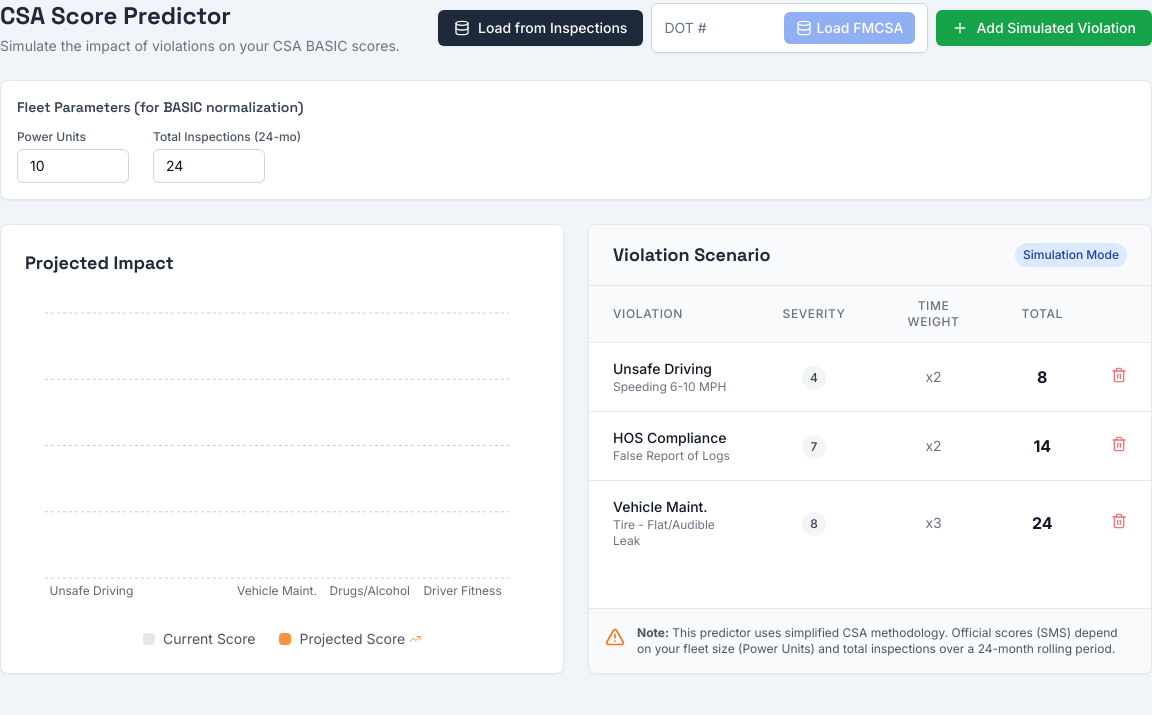
Test: CSA Predictor FMCSA seed flow › loads an FMCSA carrier snapshot into the predictor
Type "3114665" into the field with placeholder "DOT #" at x=720, y=28, box [664,18,776,38]
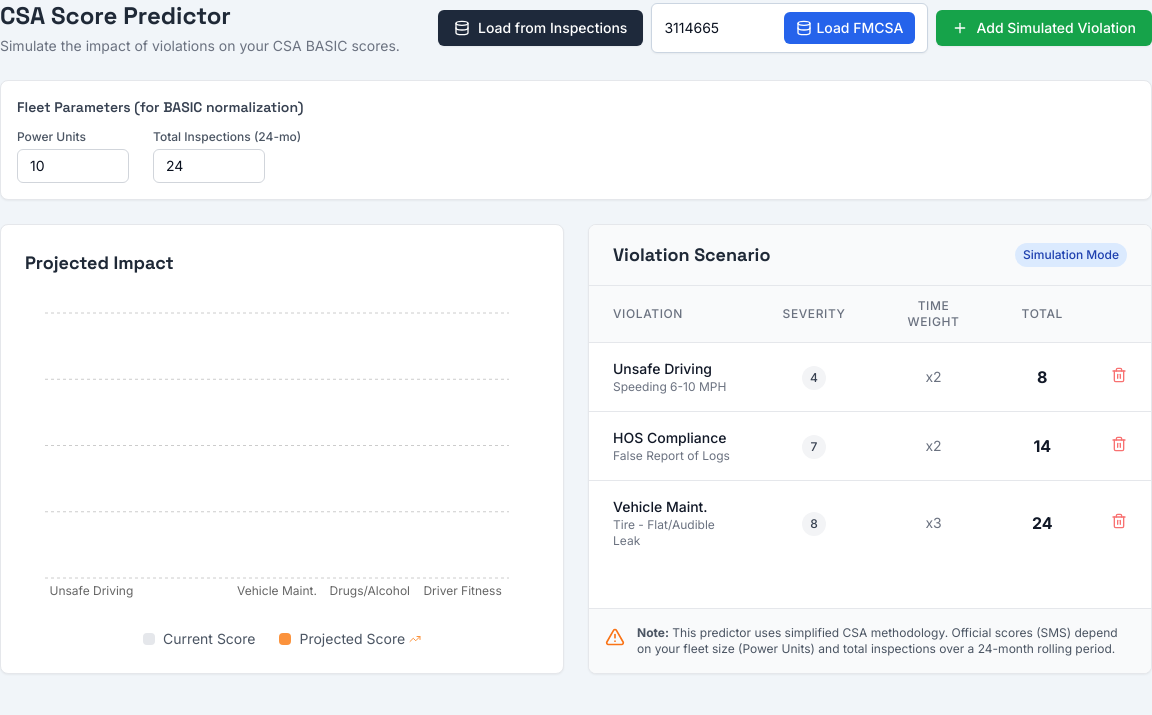
Click the button "Load FMCSA" at x=850, y=28, box [784,12,915,44]
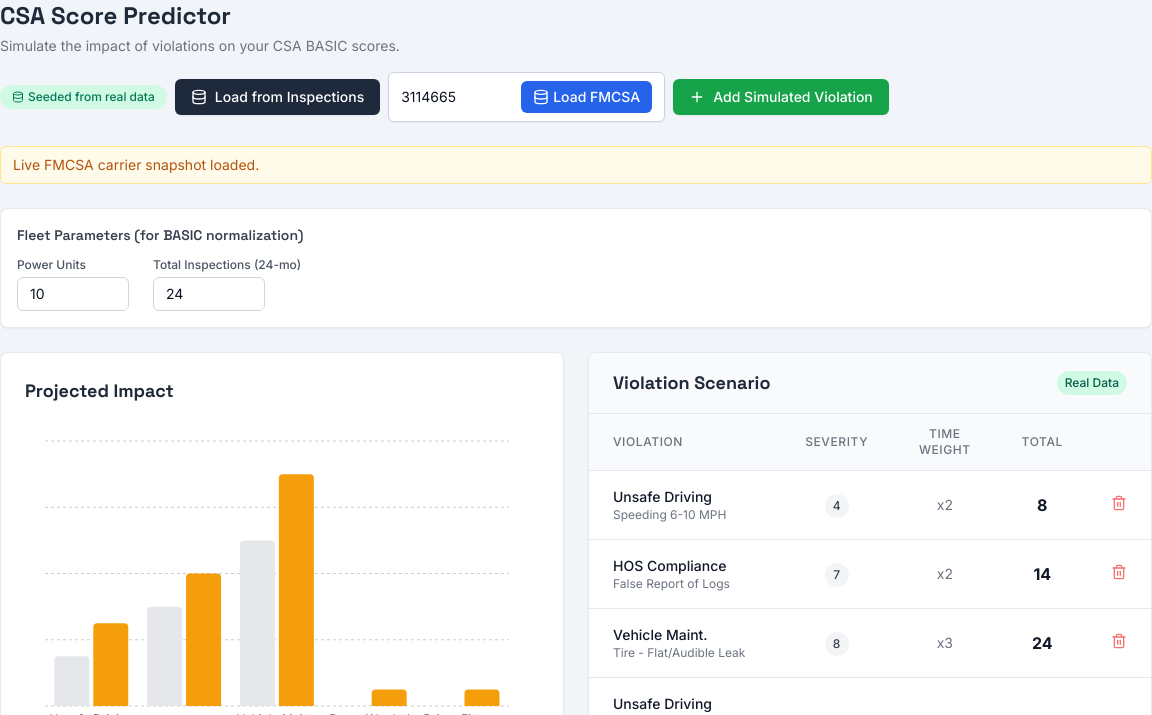
Result: the text "Seeded from real data" is shown at [0,85,167,109]
Result: the text "Live FMCSA carrier snapshot loaded." is shown at [0,146,1151,184]
